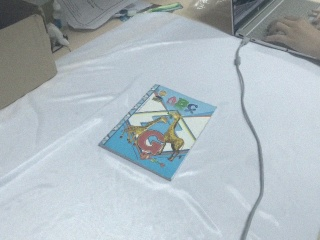book: (97, 81, 219, 183)
box: (1, 1, 58, 111)
